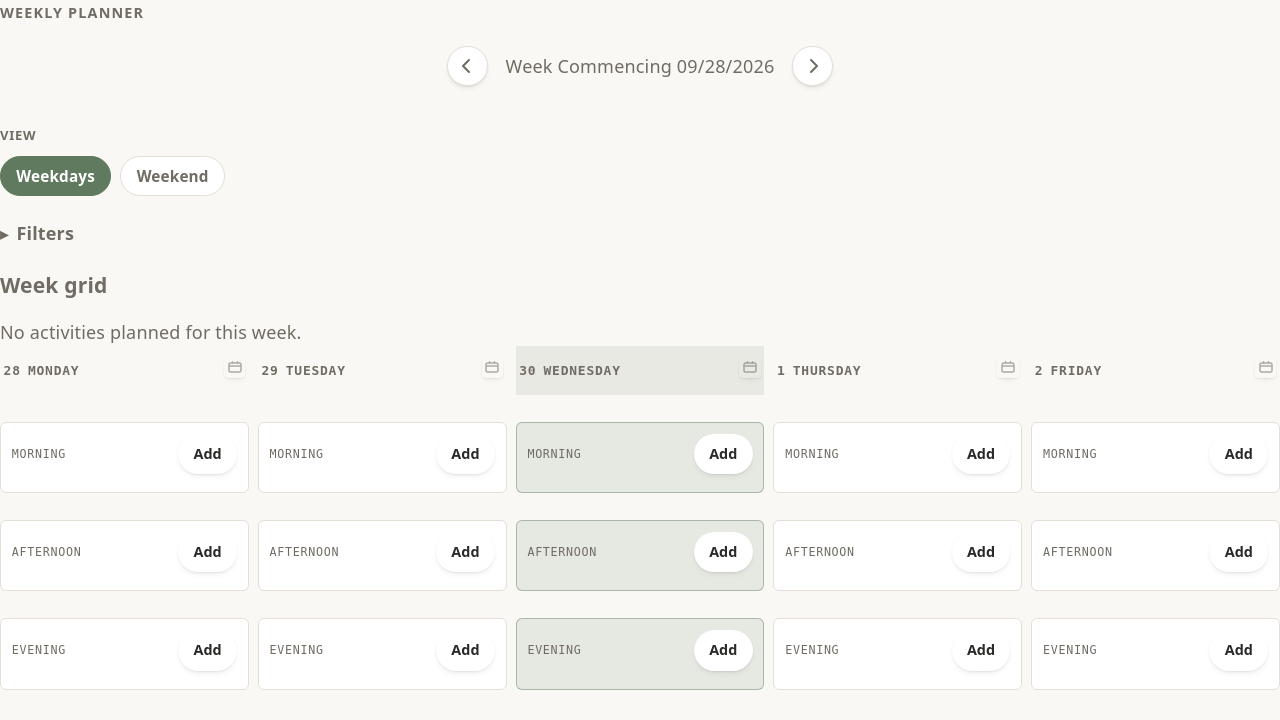
Test case: WeeklyPlanner › FRONTEND-004-AC-39: create failure shows an alert in the picker, preserves selection › keeps the picker open and the selection intact on create failure
This screenshot has width=1280, height=720.
What coordinates should you click on to do the following:
click the 1st button "Add"
I would click on:
 (208, 454)
Its box is left=178, top=434, right=237, bottom=474.
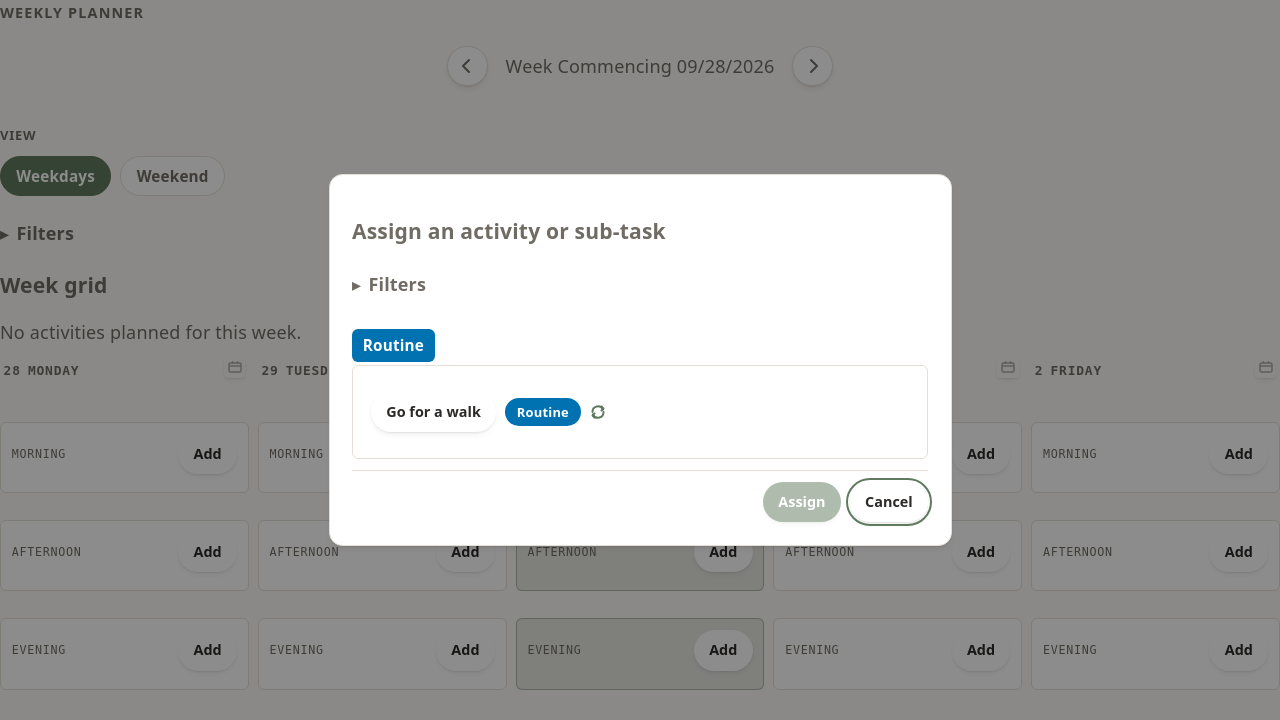
What coordinates should you click on to do the following:
click the button "Go for a walk"
I would click on:
 (434, 412)
Its box is left=371, top=392, right=496, bottom=432.
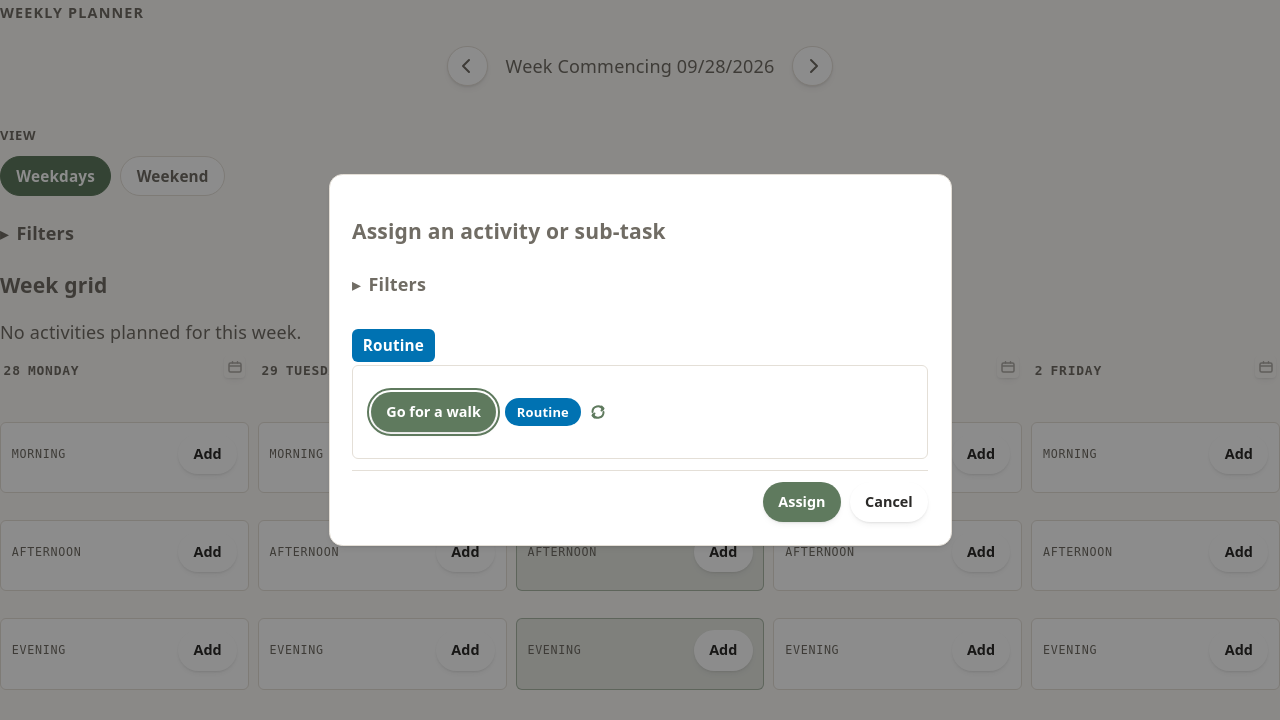
What coordinates should you click on to do the following:
click the button "Assign"
I would click on:
 (802, 502)
Its box is left=763, top=482, right=841, bottom=522.
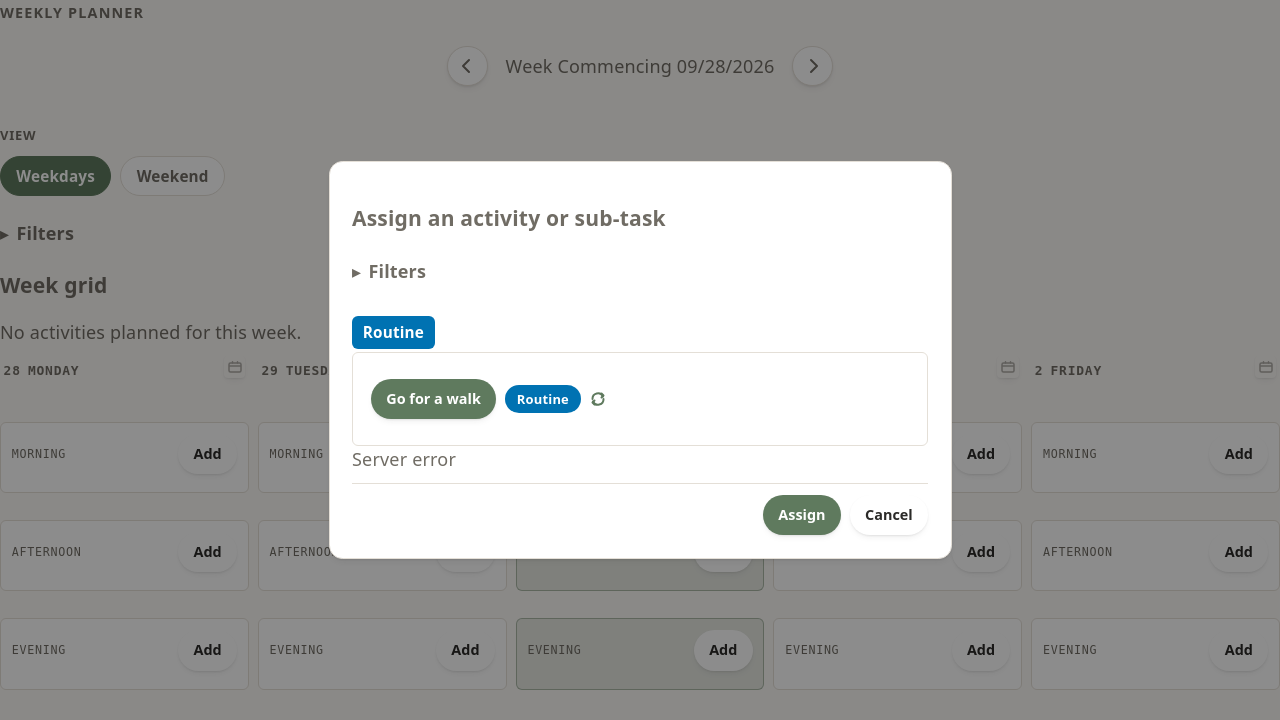
Result: the message reads "Server error" at left=352, top=447, right=456, bottom=471
